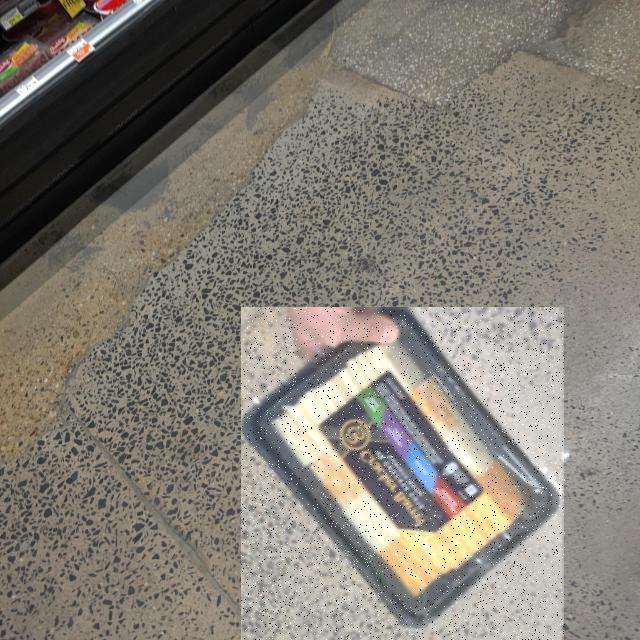Cheese: (242, 307, 566, 640)
